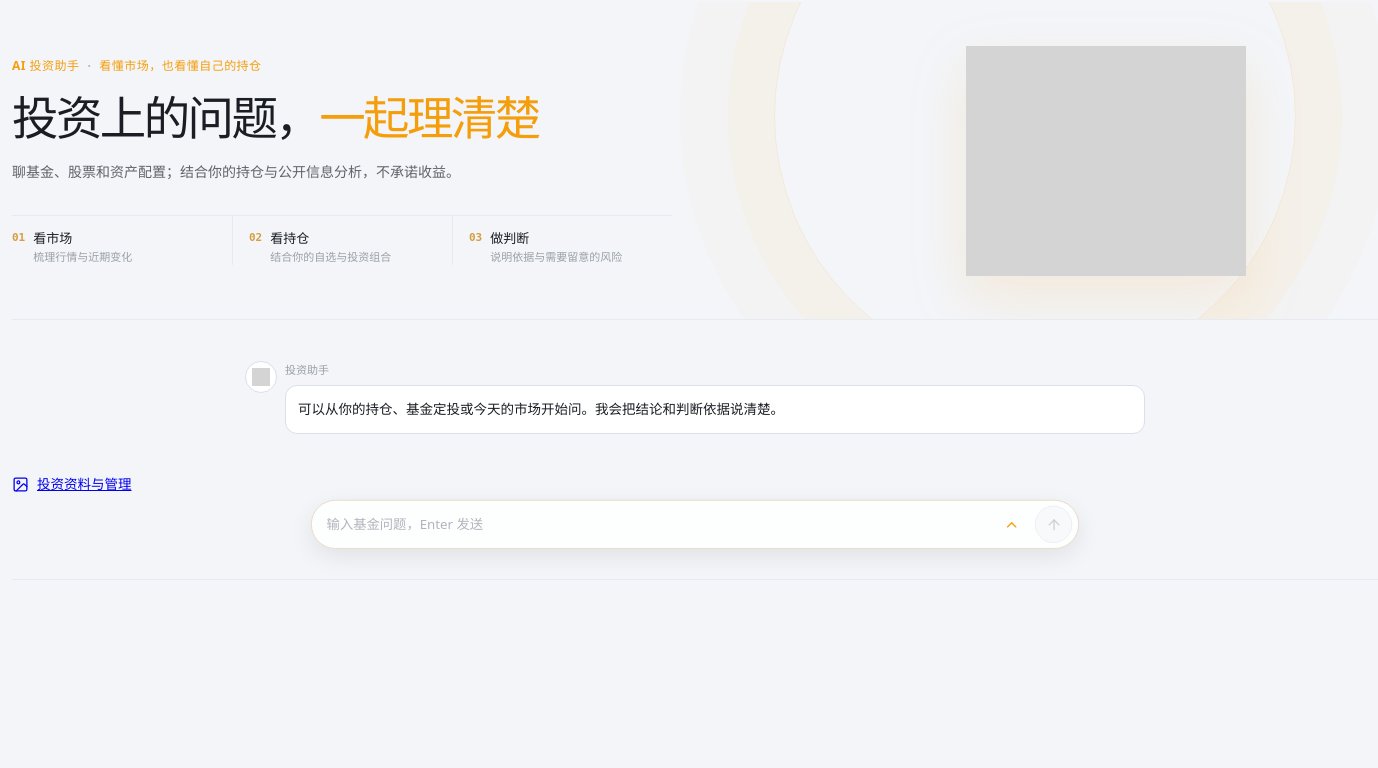
Scenario: Investment assistant chat › shows a progress stage while the investment answer is being generated
This screenshot has width=1378, height=768.
Type "分析当前市场风格" into the text box named "基金分析输入框" at (657, 524), box [327,507,988,542]
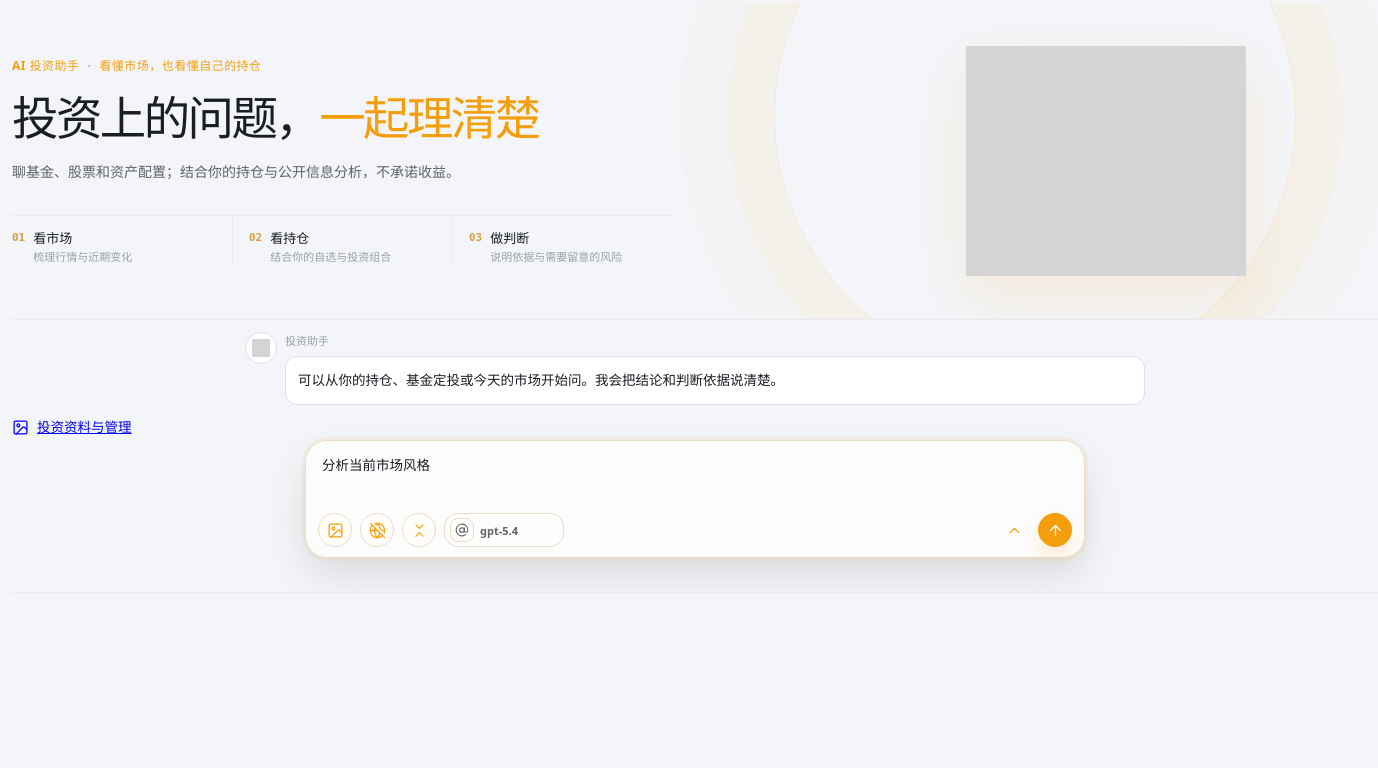
Click the button named "开始分析" at (1055, 530), box [1038,513,1072,547]
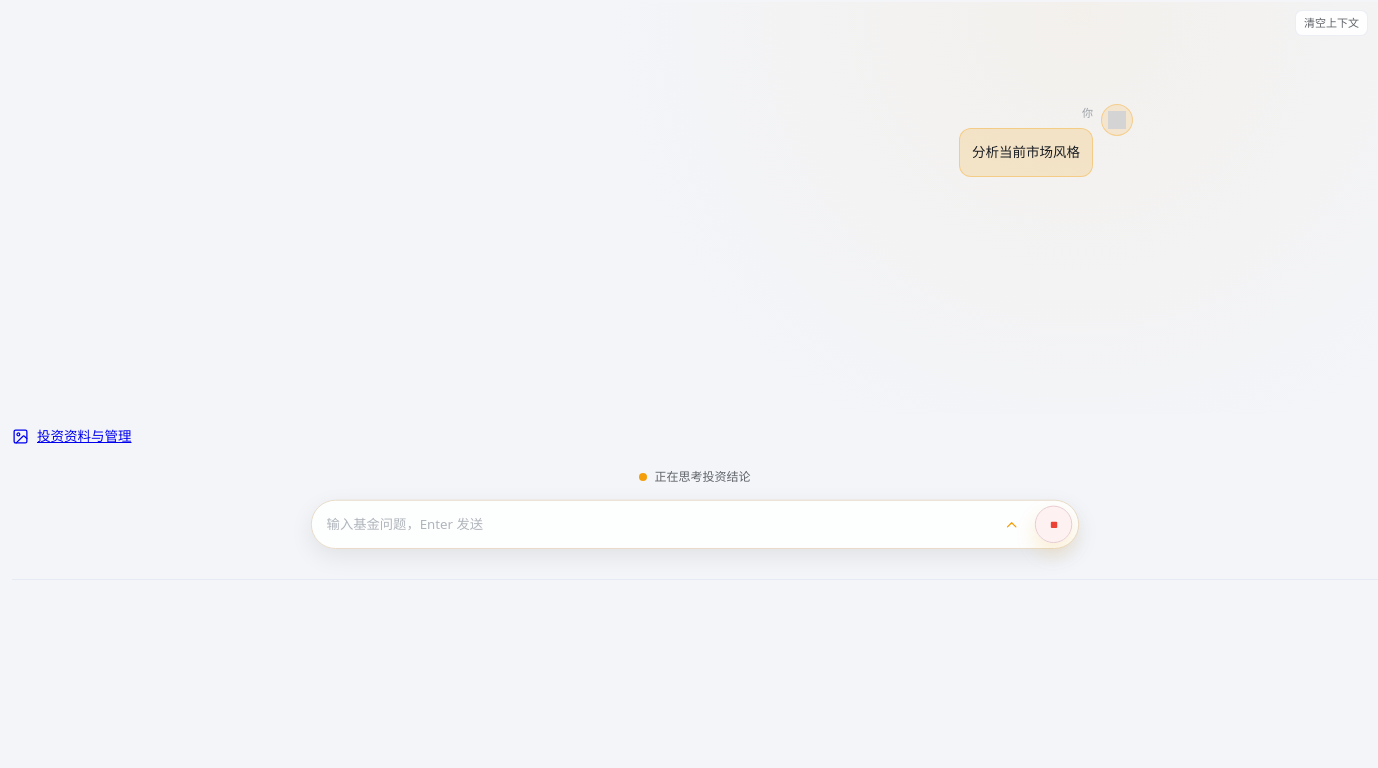
Check: the message reads "正在思考投资结论", box [654,468,750,485]
